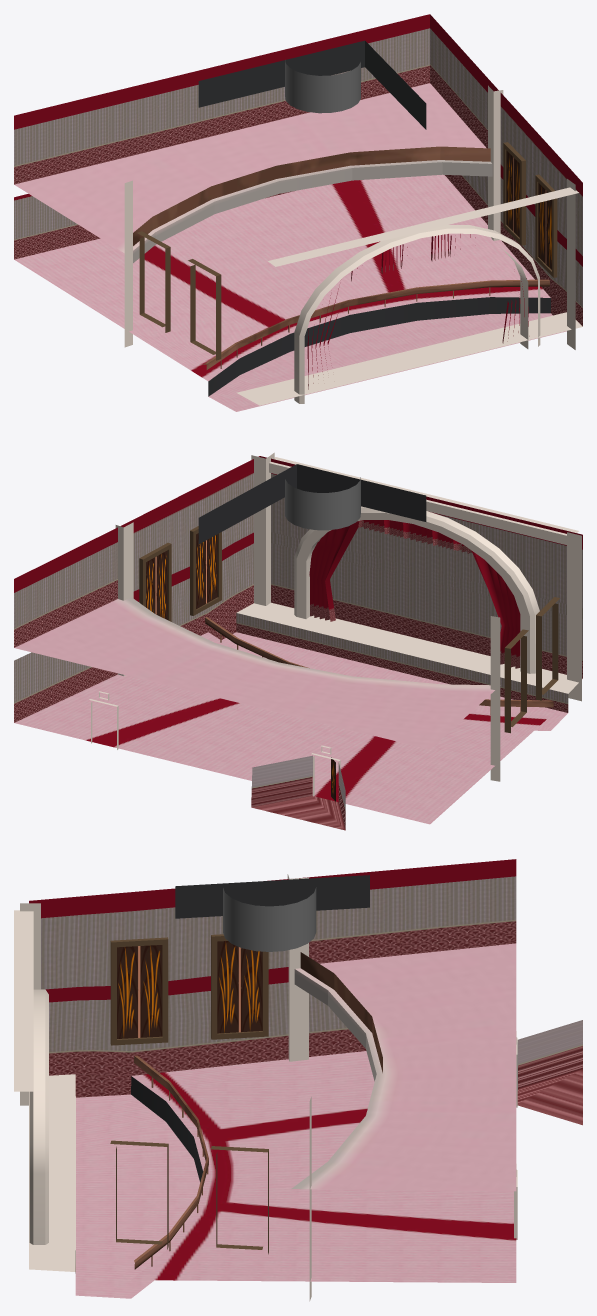
File: TheatreBuilding.glb
The picture shows the model from 3 angles, top to bottom: view 1: azimuth 30°, elevation 25°; view 2: azimuth 150°, elevation 25°; view 3: azimuth 270°, elevation 25°; orthographic projection. The views are drawn at different scales.
Parts seen in each view (by area): view 1: polySurface2317; view 2: polySurface2317; view 3: polySurface2317.
Part boxes in pixels (<box>): polySurface2317: <box>14,14,582,411</box>; polySurface2317: <box>14,452,582,830</box>; polySurface2317: <box>14,859,582,1301</box>.
Size of the model in its own units: 3001 by 1748 by 2908.
Materials: 1 (1 with a texture image).
